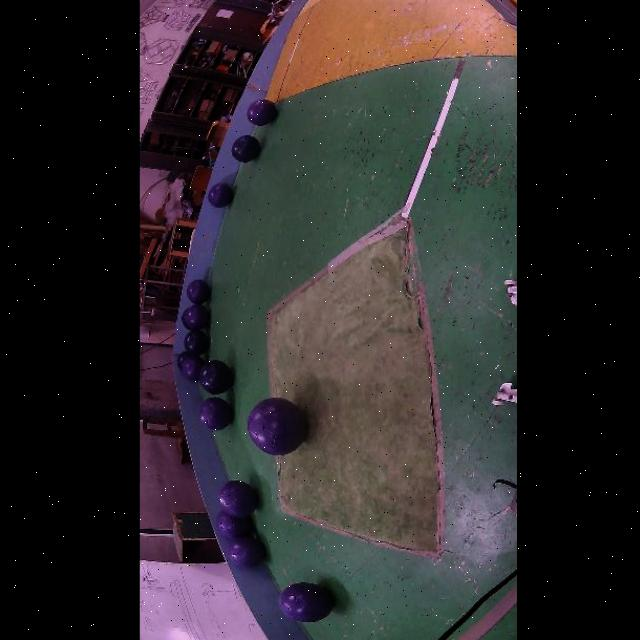B: (199, 360, 232, 394), (231, 136, 259, 162), (183, 330, 208, 356), (175, 351, 191, 371), (181, 310, 192, 330)
P: (246, 398, 305, 456), (278, 583, 333, 622), (217, 481, 257, 518), (227, 536, 265, 569), (198, 397, 232, 431), (215, 511, 251, 540), (246, 99, 276, 125), (207, 183, 232, 208), (183, 305, 208, 330), (186, 279, 210, 304), (182, 355, 204, 381)
